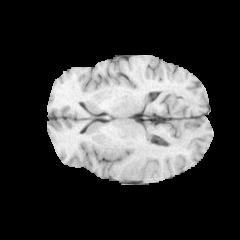glioma: (100, 142, 179, 175)
